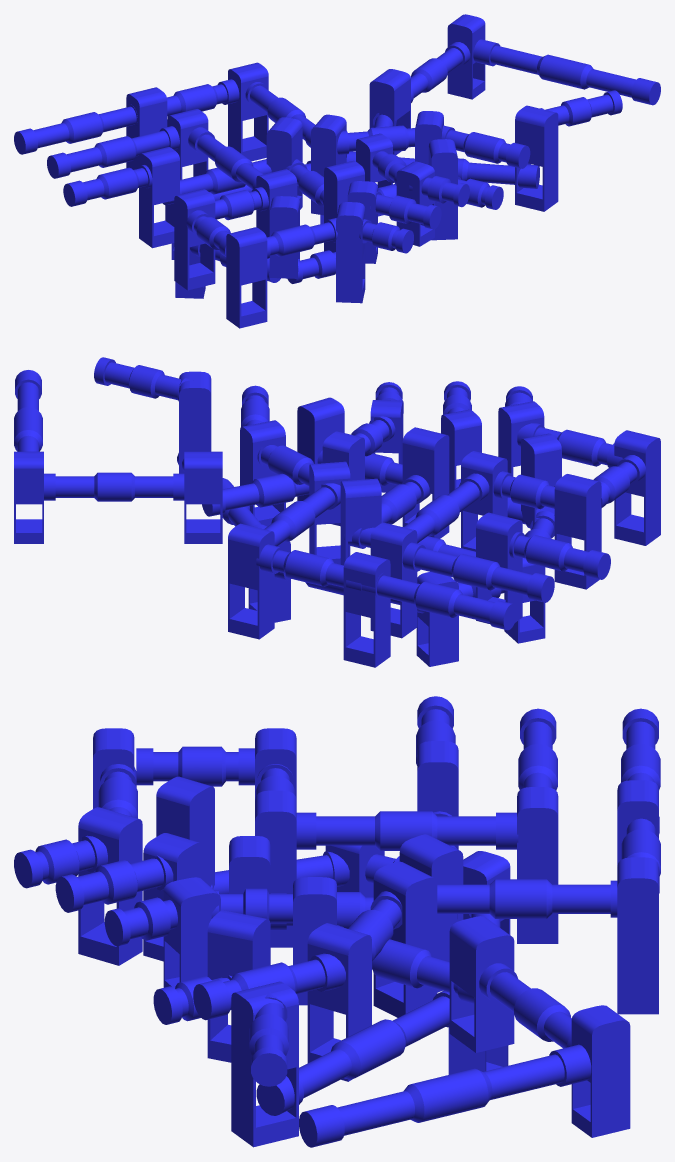
Rendered from WATERROOM_PIPEGIMIC(FIN).fbx.
3 views of the same model, one above another, from view 1: azimuth 30°, elevation 25°; view 2: azimuth 150°, elevation 25°; view 3: azimuth 270°, elevation 25° (orthographic). The views are drawn at different scales.
Visible parts, largest first — view 1: Box335, Object081; view 2: Box335, Object081; view 3: Box335, Object081.
Part boxes in pixels (x1,y1,x2,y2): Box335: (14,62,530,328); Object081: (171,14,660,298); Box335: (228,385,660,667); Object081: (14,357,561,666); Box335: (14,696,660,1081); Object081: (55,776,630,1147).
Bounding box in the file's own units: 1368 × 301 × 888.
